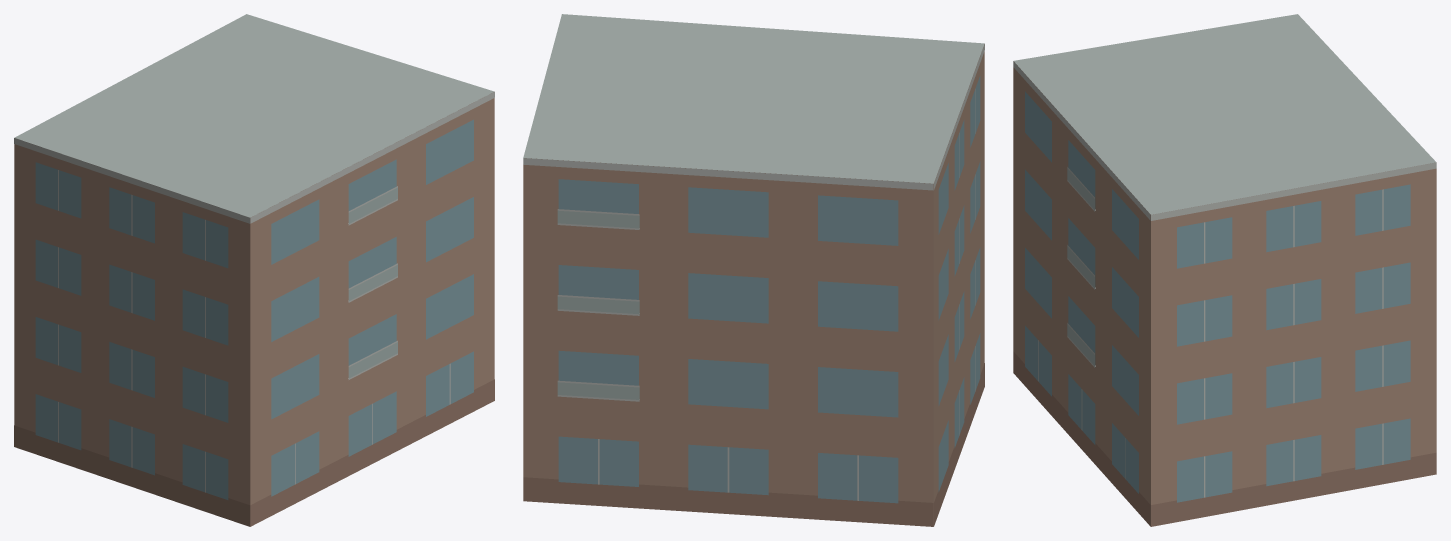
File: survey-upis-32593205.glb
The picture shows the model from 3 angles, left to right: view 1: azimuth 30°, elevation 25°; view 2: azimuth 150°, elevation 25°; view 3: azimuth 270°, elevation 25°; orthographic projection. The views are drawn at different scales.
Parts seen in each view (by area): view 1: survey-upis-32593205.tmp; view 2: survey-upis-32593205.tmp; view 3: survey-upis-32593205.tmp.
Boxes of the visible parts, x1,y1,x2,y2 form: survey-upis-32593205.tmp: (14, 14, 494, 526); survey-upis-32593205.tmp: (523, 14, 984, 526); survey-upis-32593205.tmp: (1013, 14, 1436, 526).
Bounding box in the file's own units: 16.85 × 12.2 × 15.
